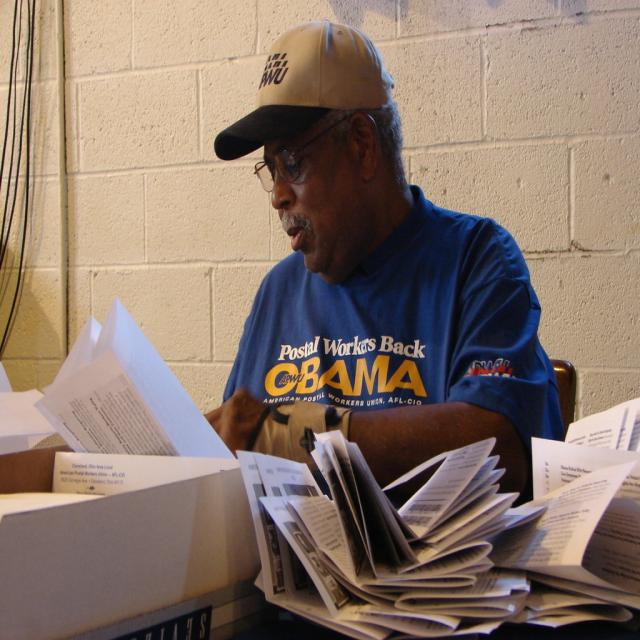Hat: (214, 16, 396, 160)
